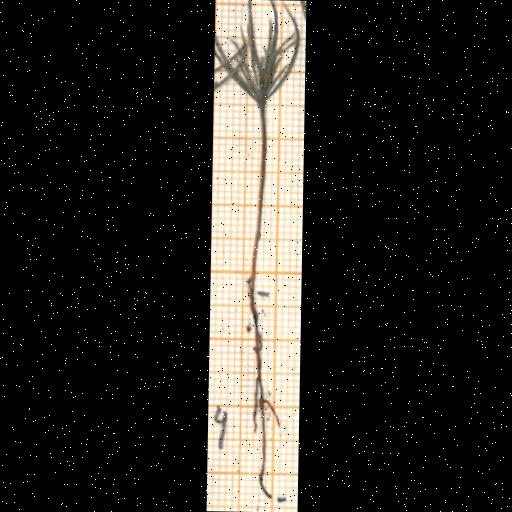flowerPinus: (213, 0, 298, 109)
rootPinus: (250, 297, 279, 499)
stemPinus: (248, 109, 266, 294)
